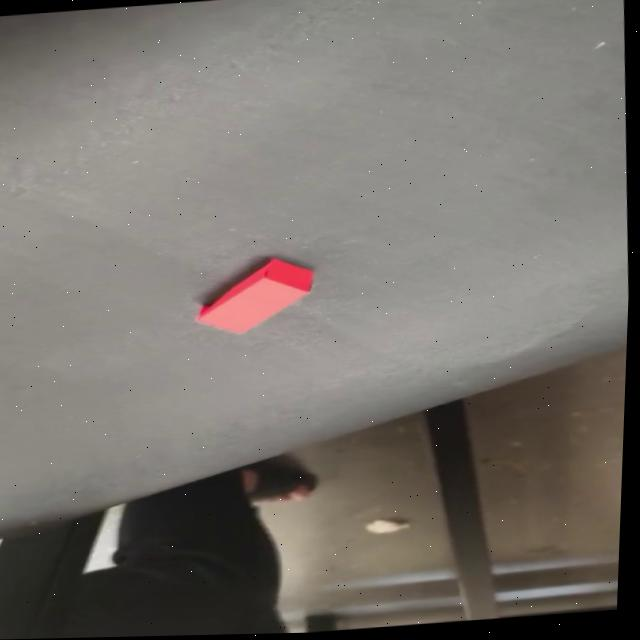red block: (193, 255, 320, 338)
